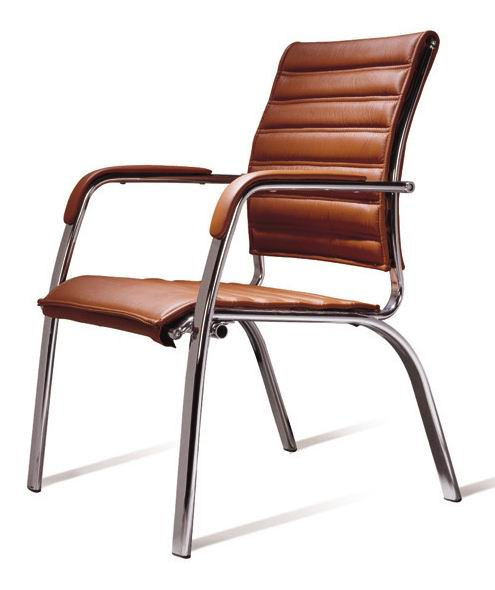chairs: (24, 29, 465, 556)
